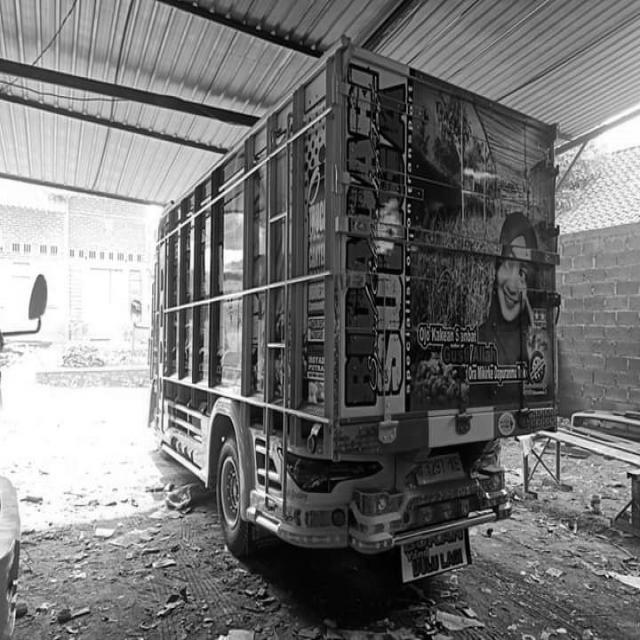truck: (143, 31, 579, 587)
